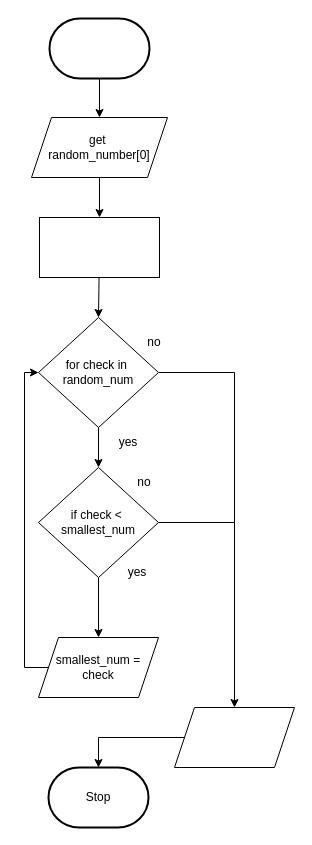
Image size: 312x845. Some labels were removed from this diagram. Here are the shapes that lost their labels. From the top down, the centre of each, then its label:
(x=99, y=48): Start
(x=99, y=247): smallest_num = random_number[0]
(x=234, y=737): return smallest_num
